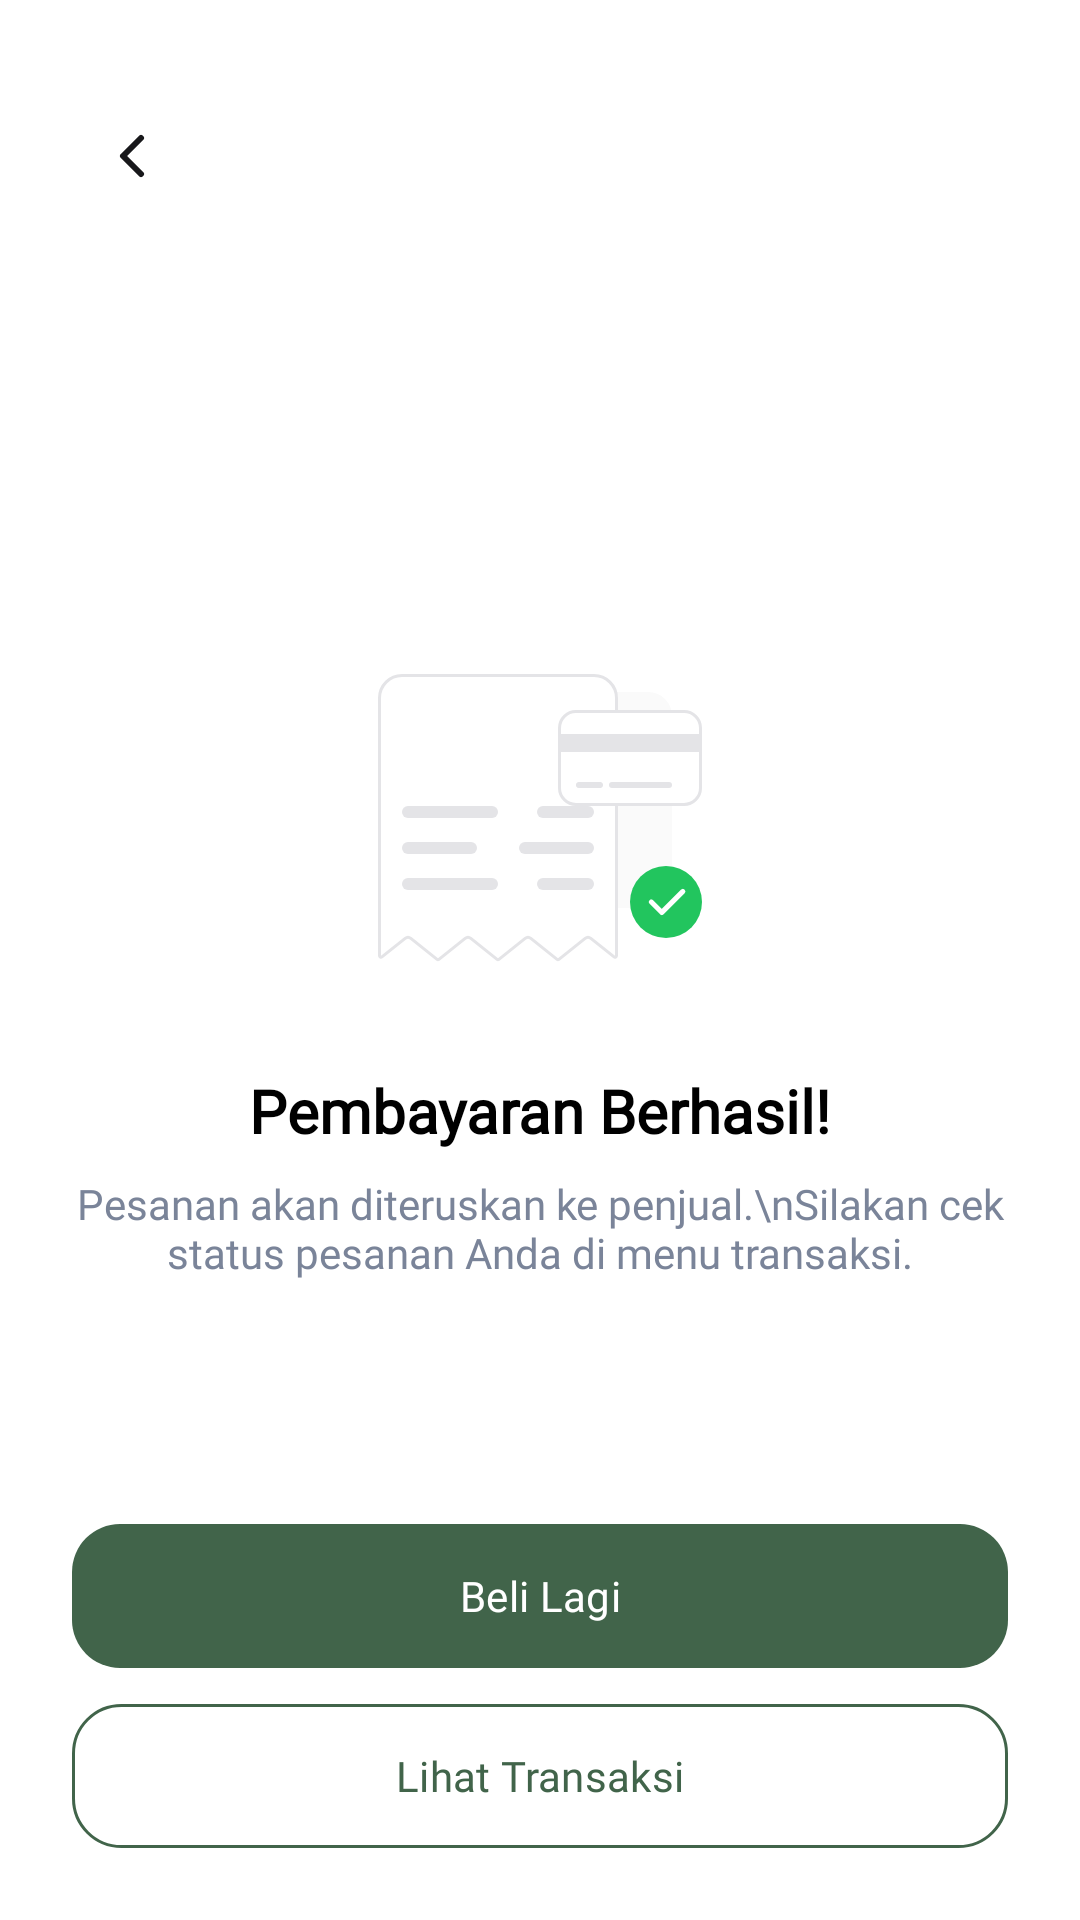

Icons on this 1080x1920 Android screen, each with its box as detection(x1, y1, x2, y2):
arror left: detection(120, 135, 144, 177)
